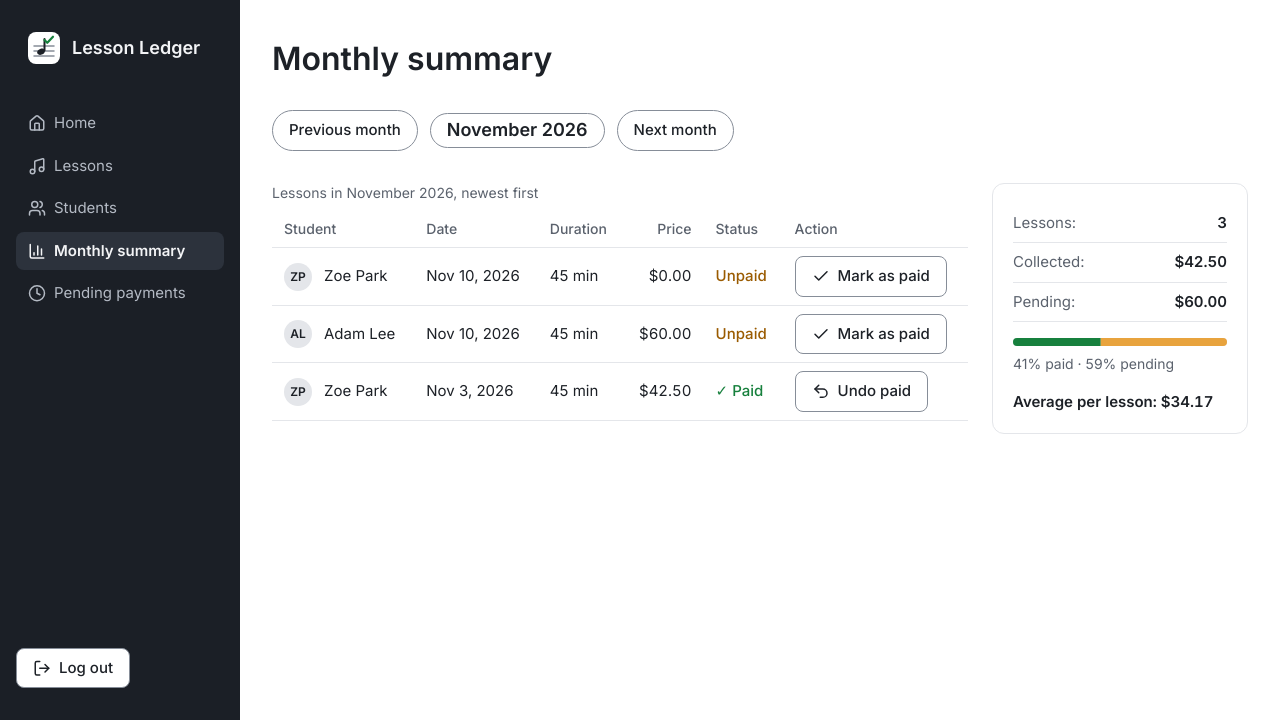
it: F08 AC-4b,c load motion › AC-4b,c after a mark the bar and the figures are the same elements, so nothing replays
Expected: the table is shown, [272,183,968,421]
Click the button with aria-label "Mark as paid: Adam Lee, Nov 10, 2026" at (871, 334), box [795,314,947,354]
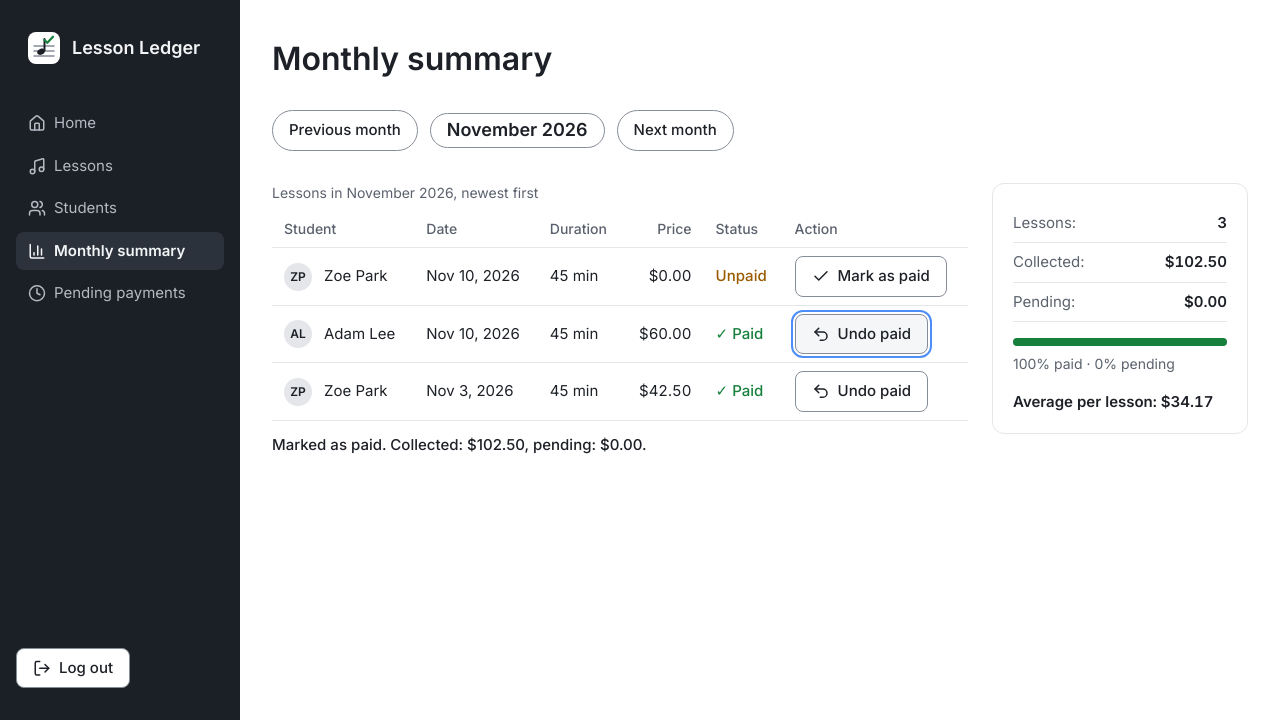
Expected: the text "100% paid · 0% pending" is shown, [1013,355,1175,372]
